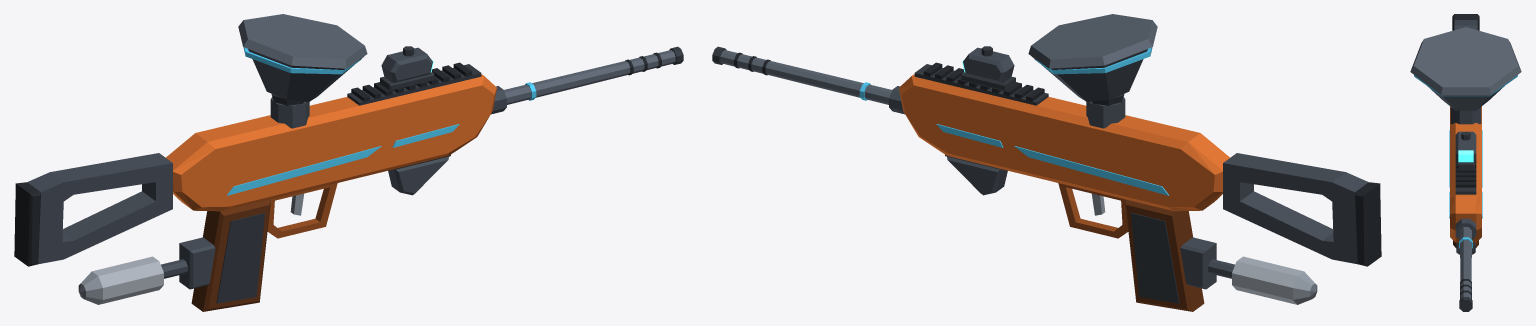
The model's file is raptor_factory.glb.
3 views of the same model, side by side, from view 1: azimuth 30°, elevation 25°; view 2: azimuth 150°, elevation 25°; view 3: azimuth 270°, elevation 25° (orthographic). The views are drawn at different scales.
Parts seen in each view (by area): view 1: raptor_factory; view 2: raptor_factory; view 3: raptor_factory.
Part boxes in pixels (left/top/right/bottom): raptor_factory: left=14, top=14, right=683, bottom=311; raptor_factory: left=712, top=14, right=1381, bottom=311; raptor_factory: left=1410, top=14, right=1521, bottom=311.
Size of the model in its own units: 0.928 by 0.3513 by 0.1618.
